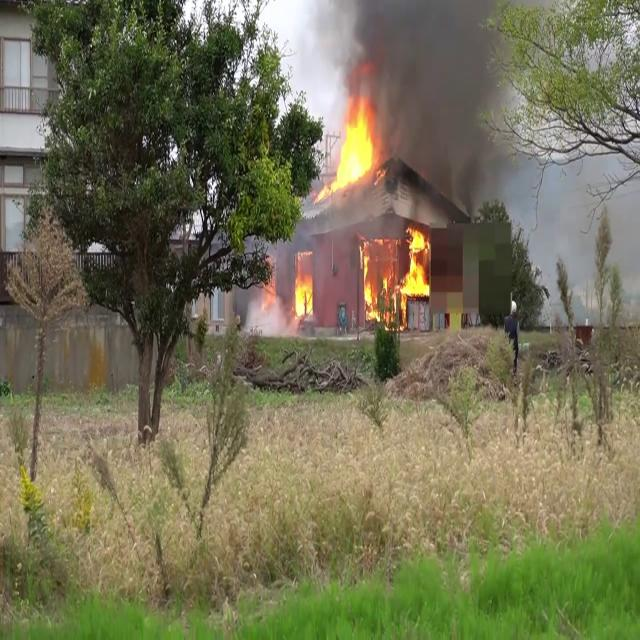Fire: (358, 223, 434, 325), (318, 93, 380, 199), (290, 260, 316, 327)
Smoke: (363, 0, 512, 206)
